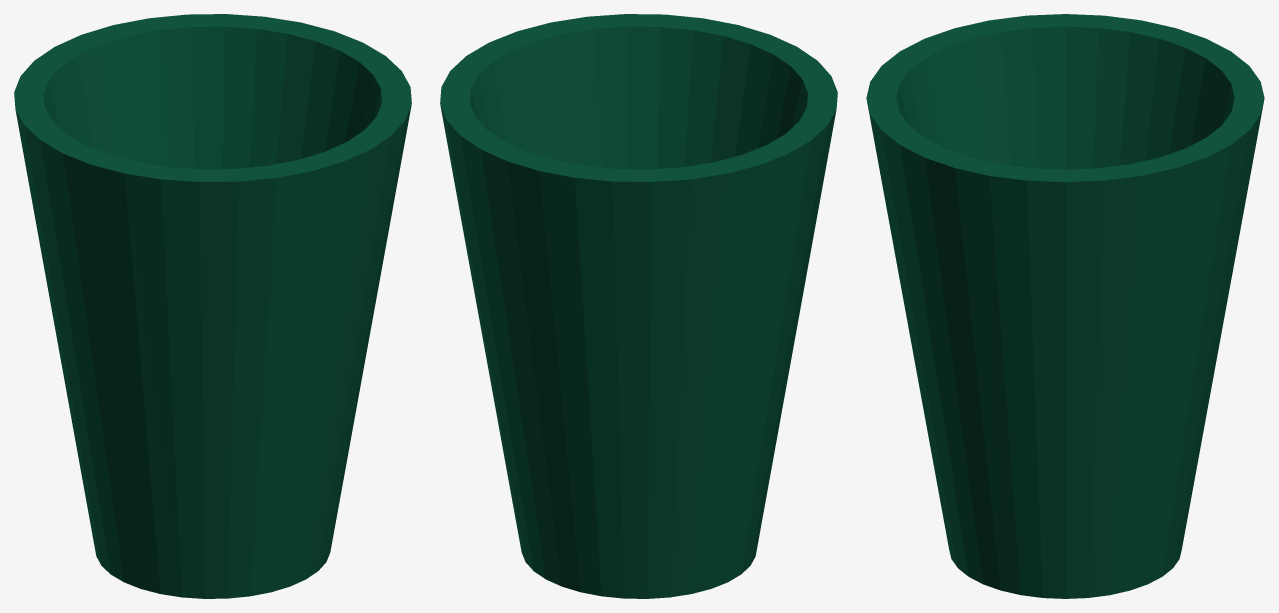
File: GarbageCan.fbx
3 renders of one model, left to right at view 1: azimuth 30°, elevation 25°; view 2: azimuth 150°, elevation 25°; view 3: azimuth 270°, elevation 25°, orthographic.
Parts seen in each view (by area): view 1: 円柱; view 2: 円柱; view 3: 円柱.
Boxes of the visible parts, bbox=[...] form: 円柱: bbox=[14, 14, 411, 598]; 円柱: bbox=[440, 14, 837, 598]; 円柱: bbox=[866, 14, 1264, 598].
Size of the model in its own units: 2 by 2.5 by 2.
